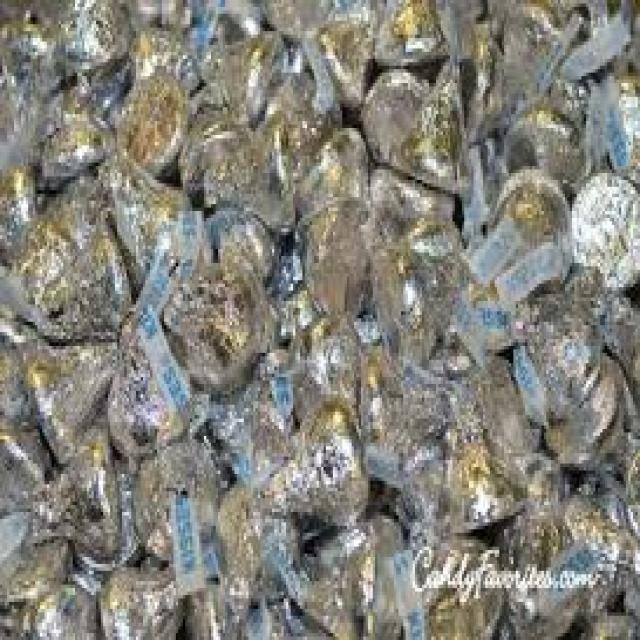kisses: (244, 382, 369, 538), (429, 369, 530, 538), (9, 205, 137, 337), (348, 329, 449, 496), (387, 67, 489, 211), (500, 292, 605, 430), (170, 258, 270, 397), (29, 48, 117, 196), (18, 331, 129, 445), (295, 198, 390, 320), (22, 458, 142, 548), (568, 167, 640, 304), (89, 565, 208, 640), (124, 59, 196, 182), (499, 167, 576, 280), (207, 27, 291, 121)
